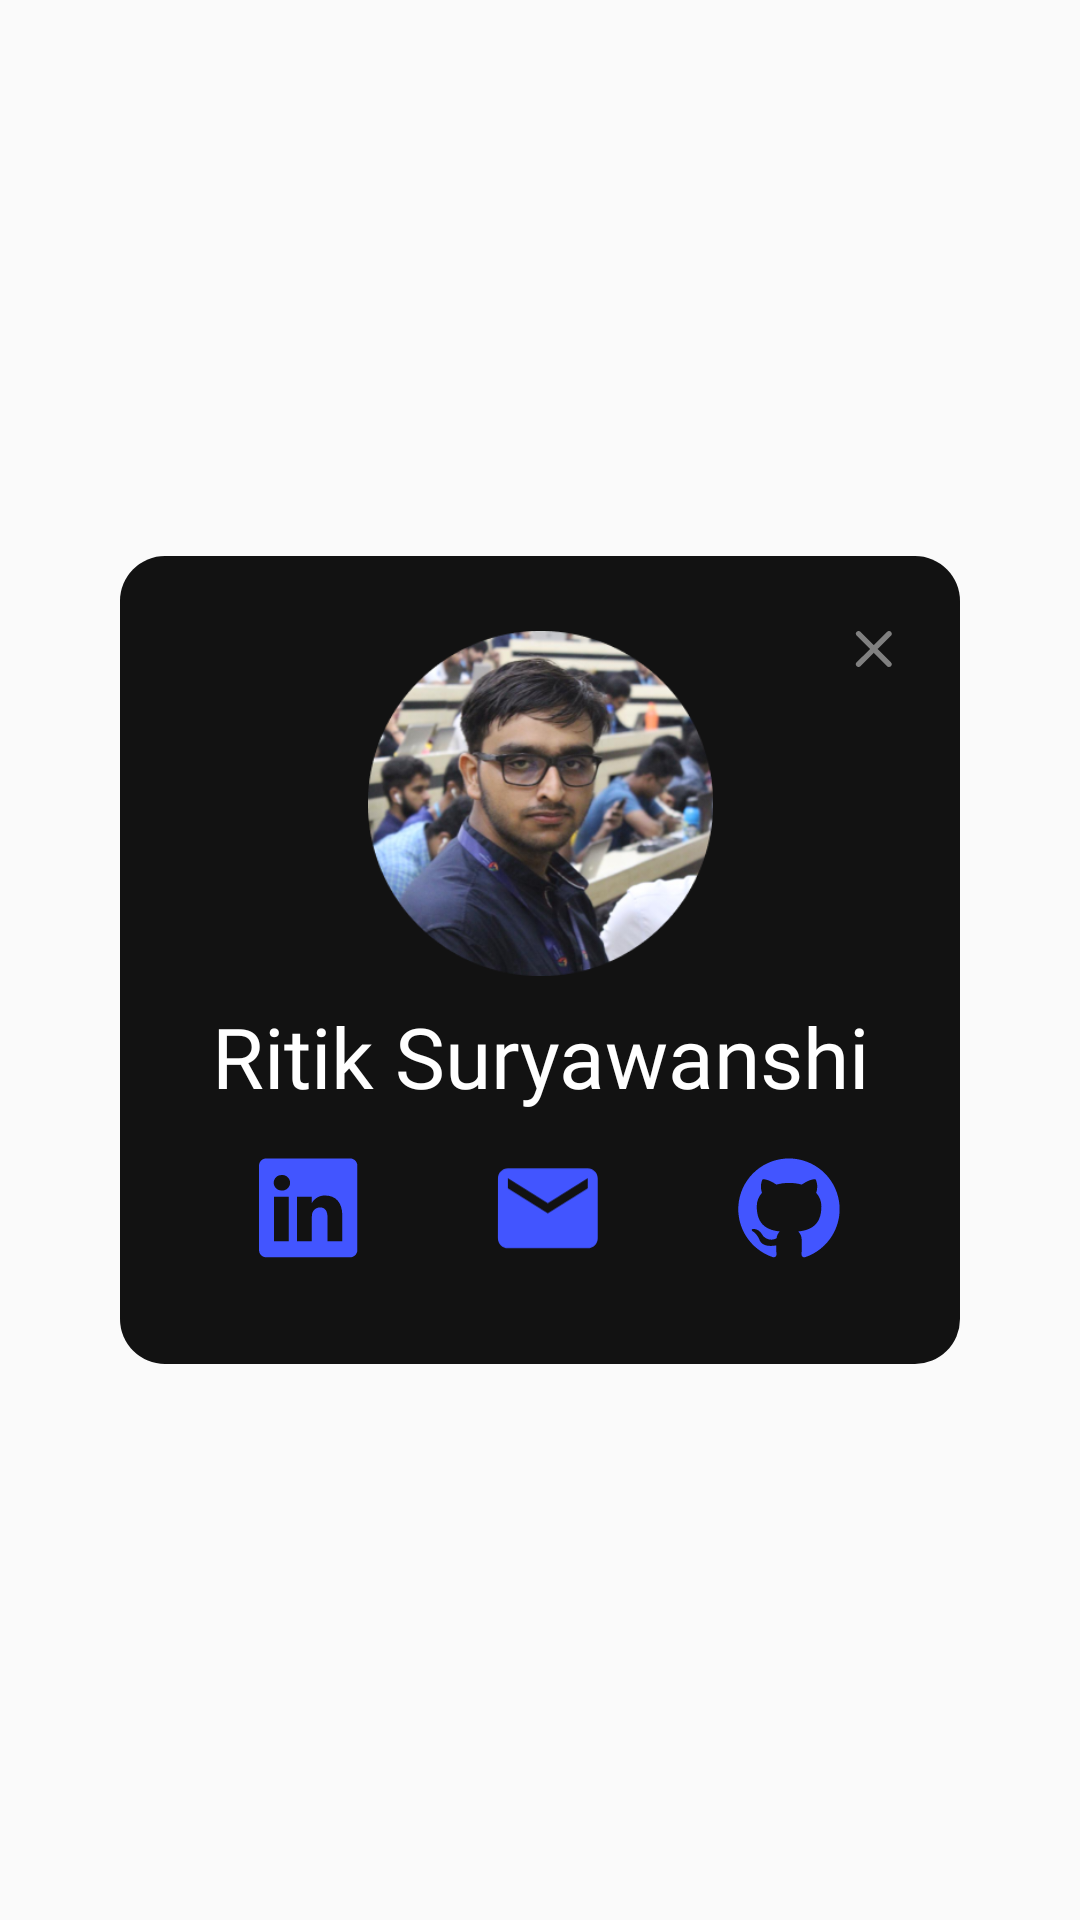

Where icons sit on this 1080×1920 app screen, as (x1, y1, x2, y2):
cross: (856, 631, 892, 667)
email: (497, 1168, 598, 1249)
